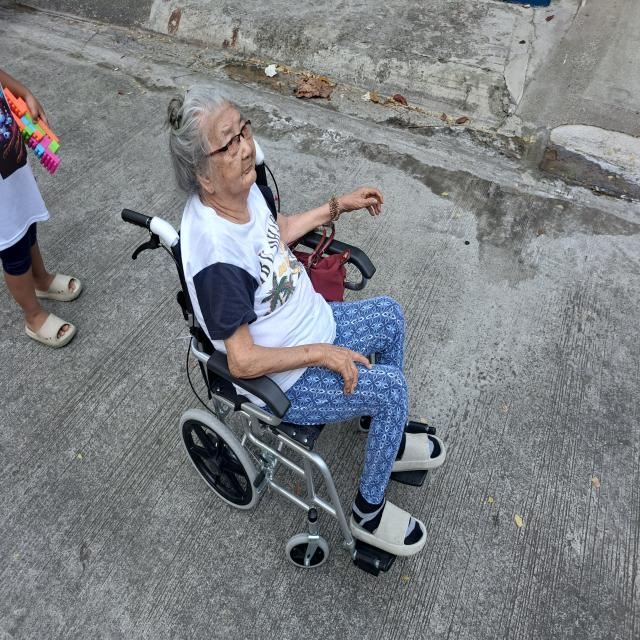wheelchairs: (117, 144, 447, 588)
